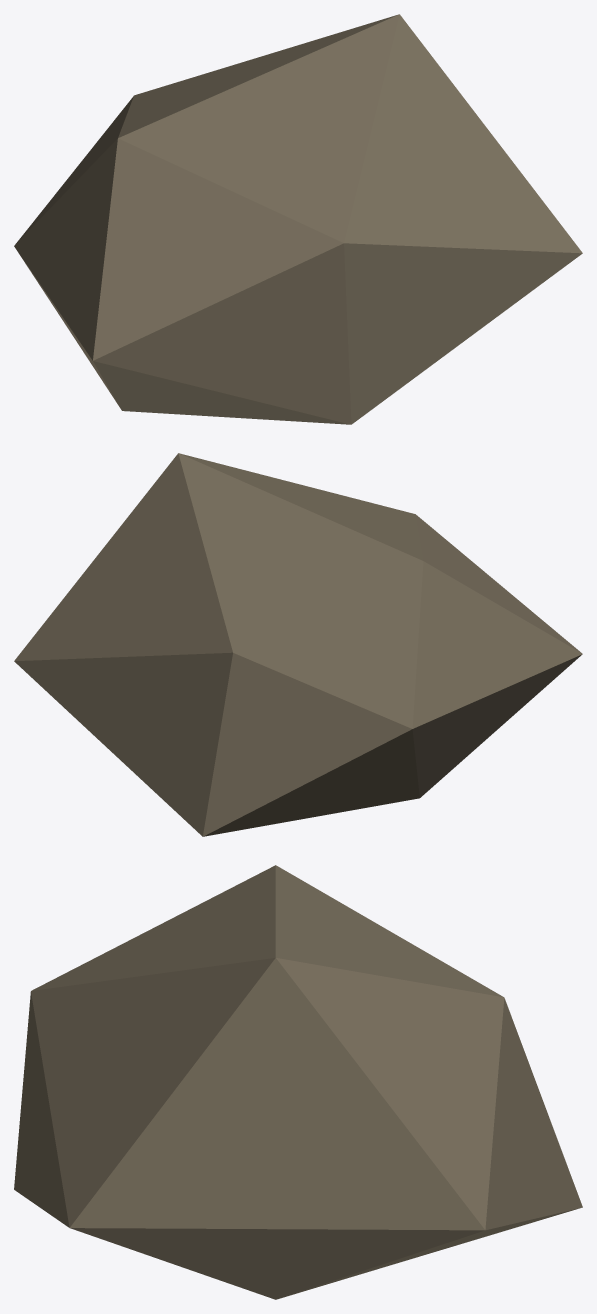
File: rock_medium.glb
3 renders of one model, top to bottom at view 1: azimuth 30°, elevation 25°; view 2: azimuth 150°, elevation 25°; view 3: azimuth 270°, elevation 25°, orthographic. The views are drawn at different scales.
Visible parts, largest first — view 1: model; view 2: model; view 3: model.
Boxes of the visible parts, box(x1,y1,x2,y2) form: model: box(14, 14, 582, 424); model: box(14, 453, 582, 836); model: box(14, 865, 582, 1299).
Bounding box in the file's own units: 2.64 × 1.72 × 2.39.
